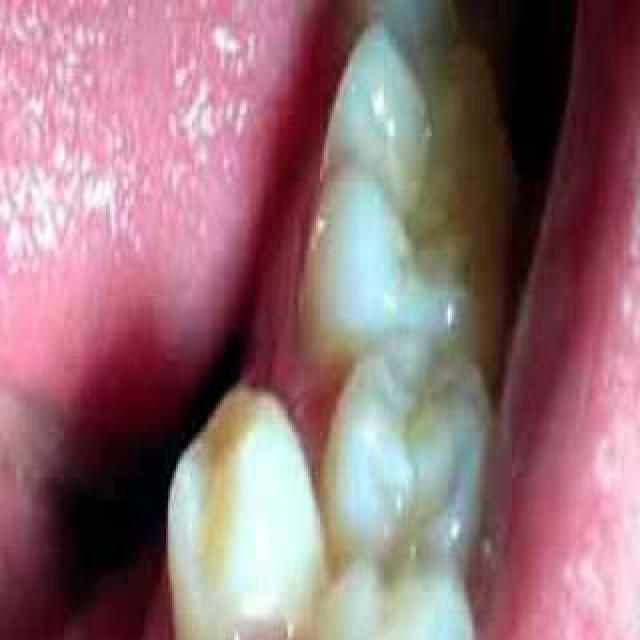maligned: (104, 368, 354, 640)
